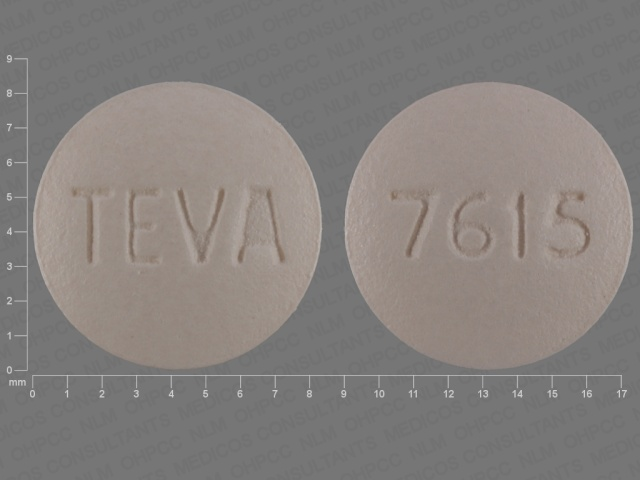1: (511, 187, 531, 261)
5: (545, 187, 593, 261)
6: (449, 186, 494, 259)
7: (388, 185, 435, 261)
A: (230, 182, 289, 267)
E: (127, 186, 161, 271)
T: (68, 184, 111, 272)
V: (172, 183, 229, 267)
